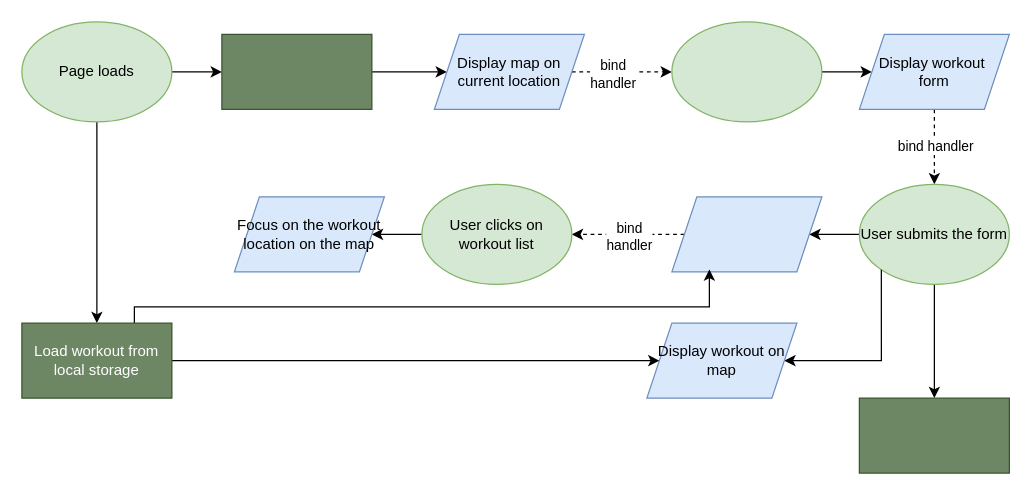
Some shapes in this 1031 by 495 pixel diagram are drawn without their labels. The box of each missing label's shape, as (x1, y1, x2, y2) in pixels:
Display workout on list: (671, 196, 822, 272)
Get current location: (221, 33, 372, 109)
Store workout on local storage: (858, 397, 1009, 473)
User clicks on a specific point on the map: (671, 21, 822, 122)
